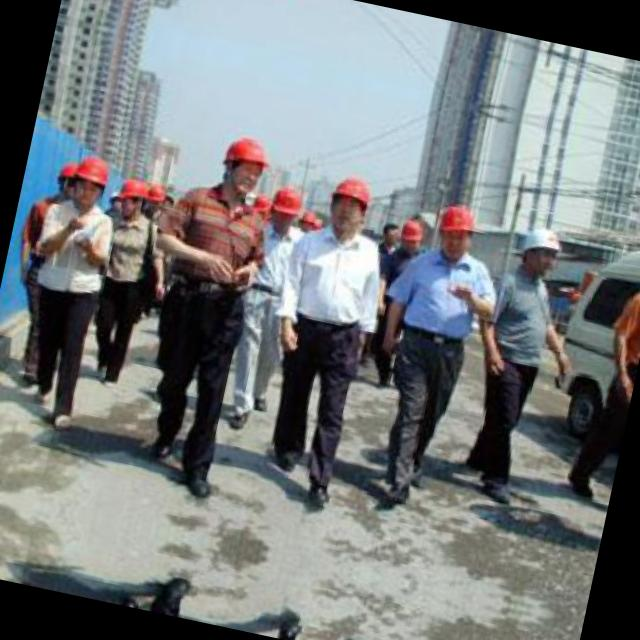helmet: (212, 127, 276, 204), (318, 168, 378, 238), (429, 200, 482, 262), (514, 220, 568, 278), (65, 152, 114, 214), (108, 171, 158, 226), (264, 180, 310, 236), (48, 153, 79, 204), (394, 212, 428, 256)
